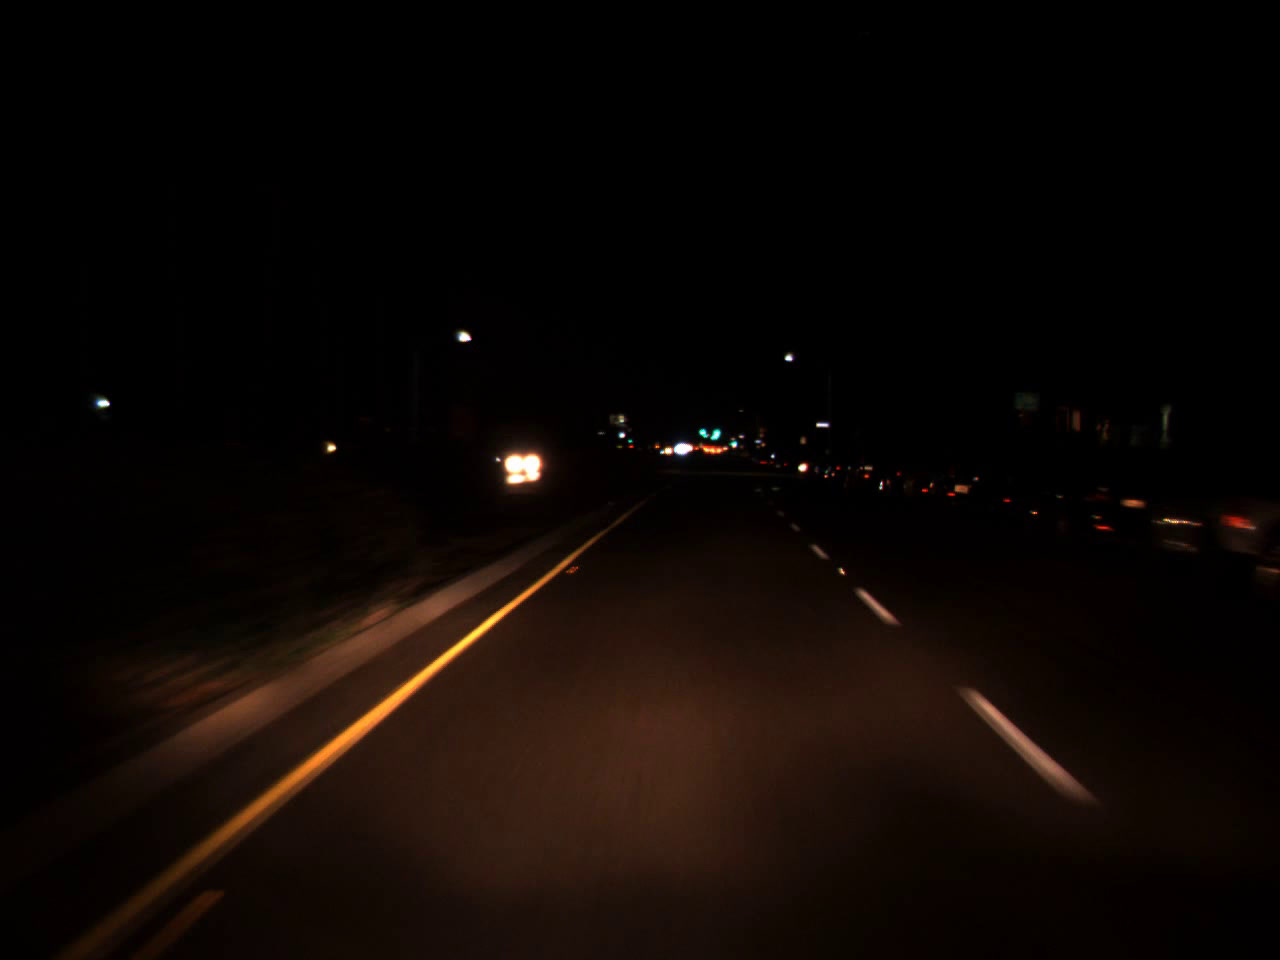go: (724, 429, 740, 450), (697, 419, 707, 440), (711, 424, 721, 436), (626, 432, 633, 444)
